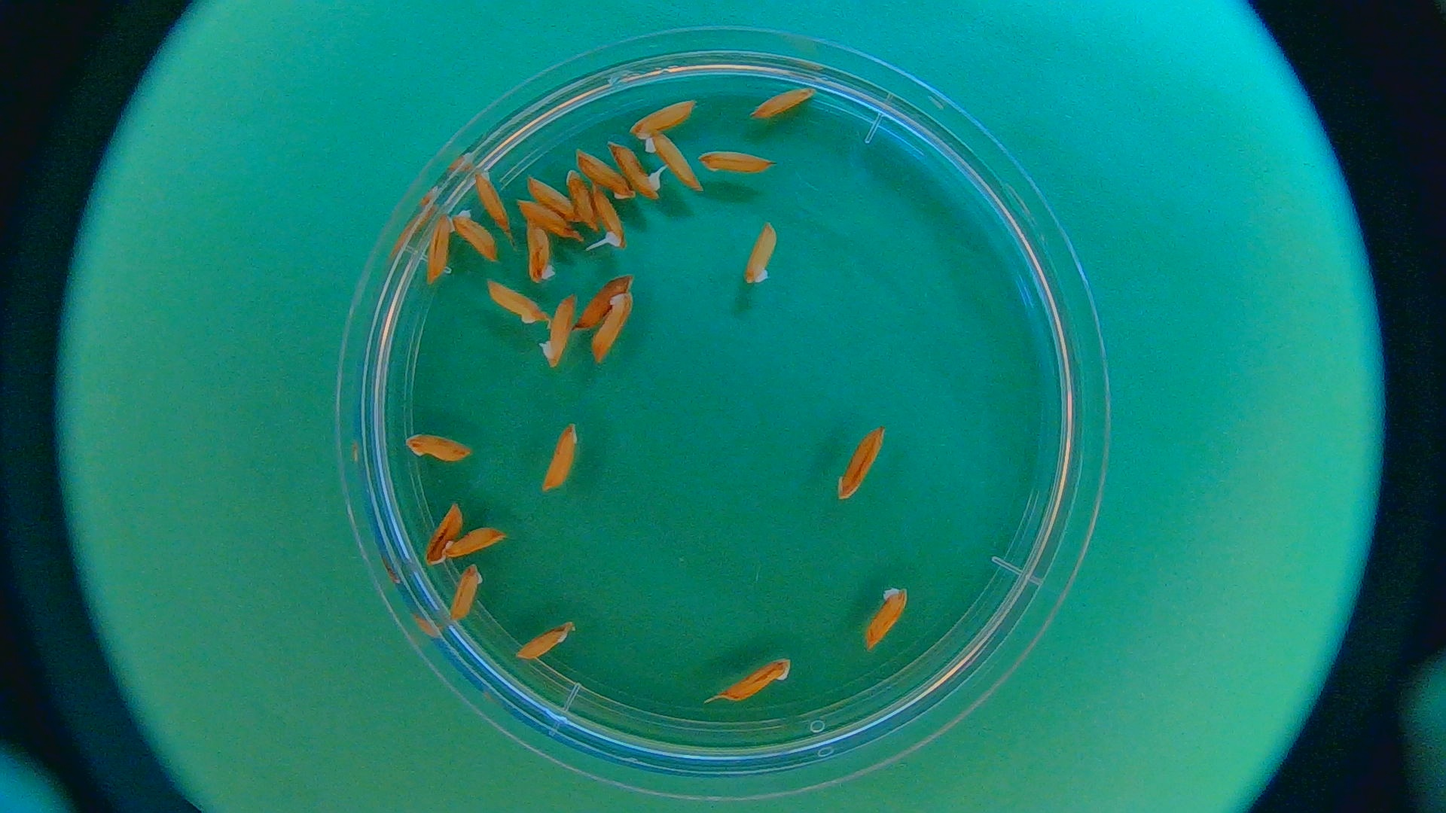no: (642, 123, 703, 198), (573, 271, 636, 333), (712, 656, 793, 704), (511, 194, 587, 245), (572, 144, 639, 201), (838, 424, 883, 507), (692, 143, 776, 187), (446, 198, 503, 262), (538, 290, 578, 375), (594, 289, 641, 360), (485, 279, 549, 330), (447, 562, 491, 635), (520, 213, 561, 291), (540, 417, 582, 492), (741, 219, 782, 294), (423, 495, 465, 567), (746, 83, 819, 123), (527, 175, 585, 225), (865, 587, 911, 650), (401, 425, 474, 464), (477, 161, 515, 232), (627, 99, 697, 136), (422, 209, 455, 283), (562, 166, 599, 231), (517, 623, 578, 662), (439, 525, 505, 561)
yes: (613, 137, 665, 201), (587, 182, 630, 251)
